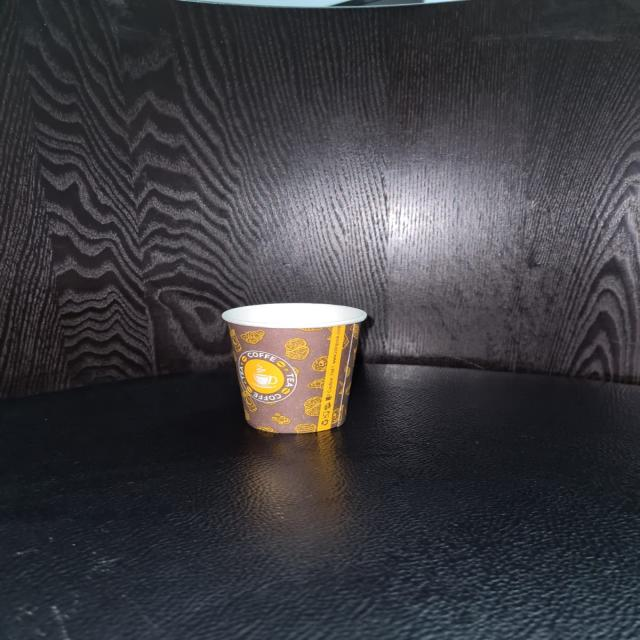cups: (221, 298, 365, 437)
